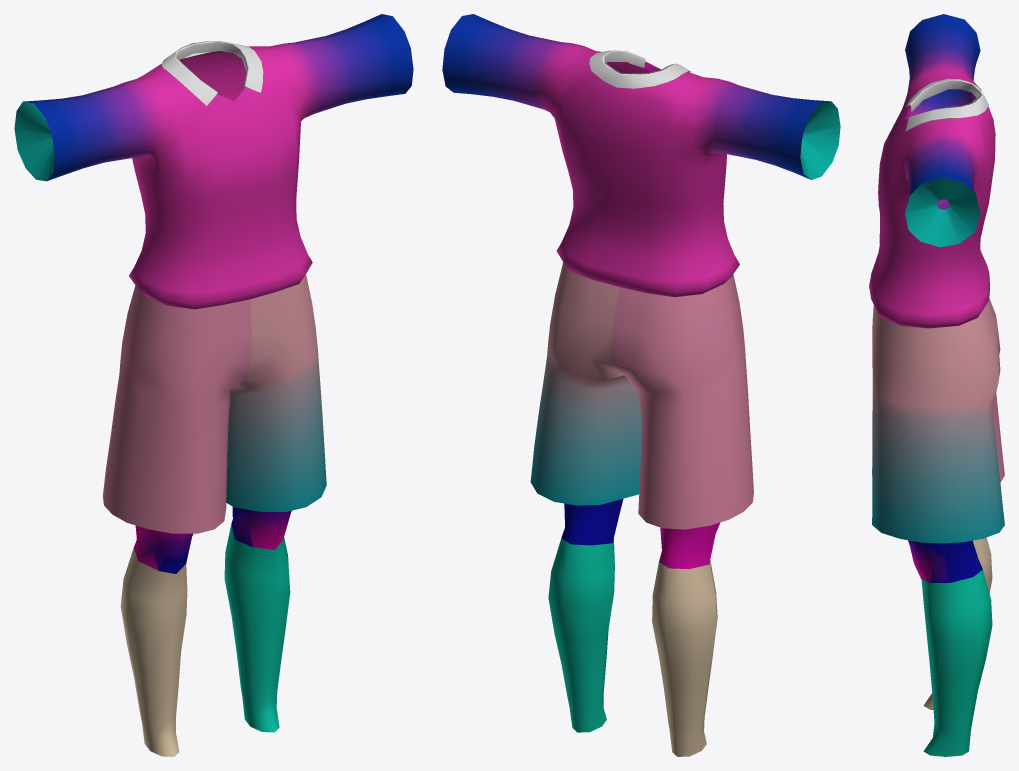
Rendered from 00_StandardMale.fbx.
The picture shows the model from 3 angles, left to right: view 1: azimuth 30°, elevation 25°; view 2: azimuth 150°, elevation 25°; view 3: azimuth 270°, elevation 25°; orthographic projection. The views are drawn at different scales.
Visible parts, largest first — view 1: u000101_30, u000101_20, collar_10; view 2: u000101_30, u000101_20, collar_10; view 3: u000101_30, u000101_20, collar_10.
Part boxes in pixels (bbox=[...]): u000101_30: bbox=[103, 274, 326, 756]; u000101_20: bbox=[14, 14, 413, 309]; collar_10: bbox=[161, 41, 263, 105]; u000101_30: bbox=[530, 262, 753, 756]; u000101_20: bbox=[442, 14, 840, 296]; collar_10: bbox=[589, 50, 690, 88]; u000101_30: bbox=[872, 298, 1004, 756]; u000101_20: bbox=[869, 14, 995, 328]; collar_10: bbox=[905, 78, 988, 130].
Bounding box in the file's own units: 65.26 × 118 × 22.9.
